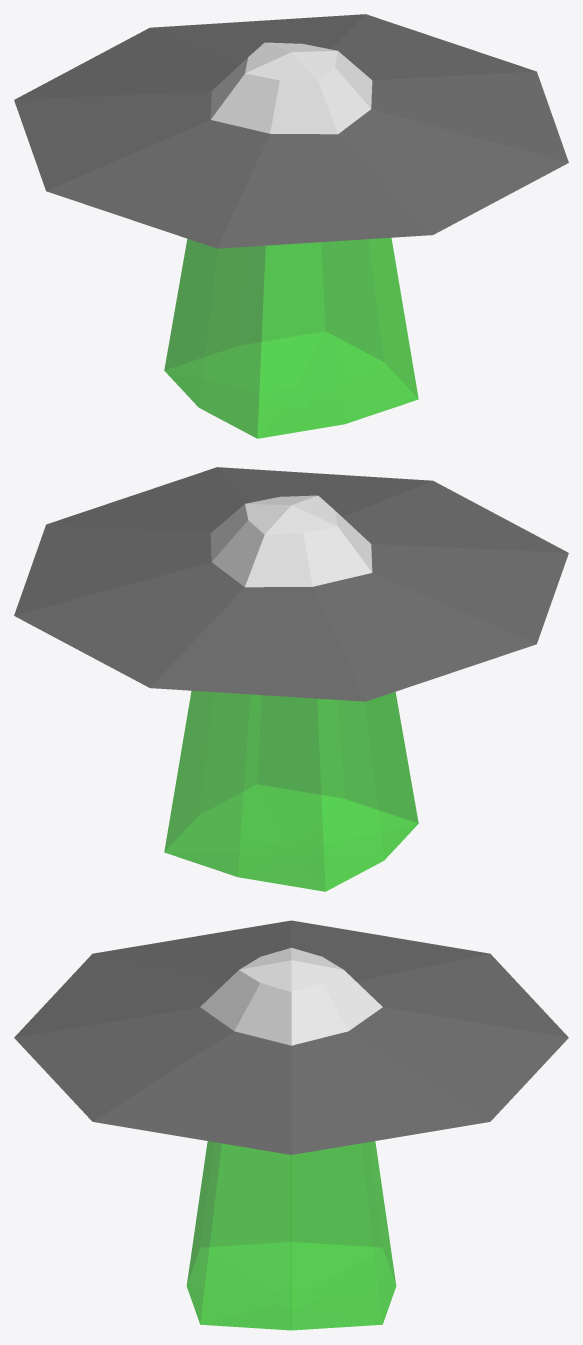
The model's file is UFO.glb.
3 views of the same model, one above another, from view 1: azimuth 30°, elevation 25°; view 2: azimuth 150°, elevation 25°; view 3: azimuth 270°, elevation 25° (orthographic). The views are drawn at different scales.
Parts seen in each view (by area): view 1: Cube, Cube.002; view 2: Cube, Cube.002; view 3: Cube, Cube.002.
Boxes of the visible parts, bbox=[...] form: Cube: bbox=[14, 14, 568, 248]; Cube.002: bbox=[164, 237, 418, 438]; Cube: bbox=[14, 467, 568, 701]; Cube.002: bbox=[164, 690, 418, 891]; Cube: bbox=[14, 920, 568, 1154]; Cube.002: bbox=[186, 1141, 396, 1330].
Size of the model in its own units: 8.74 by 5.87 by 8.74.
